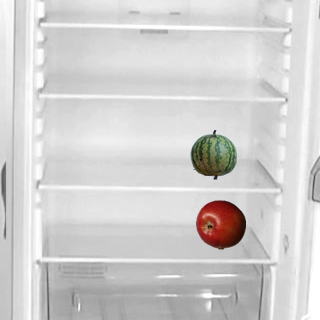Apple Braeburn: (195, 199, 245, 249)
Watermelon: (188, 129, 238, 179)
